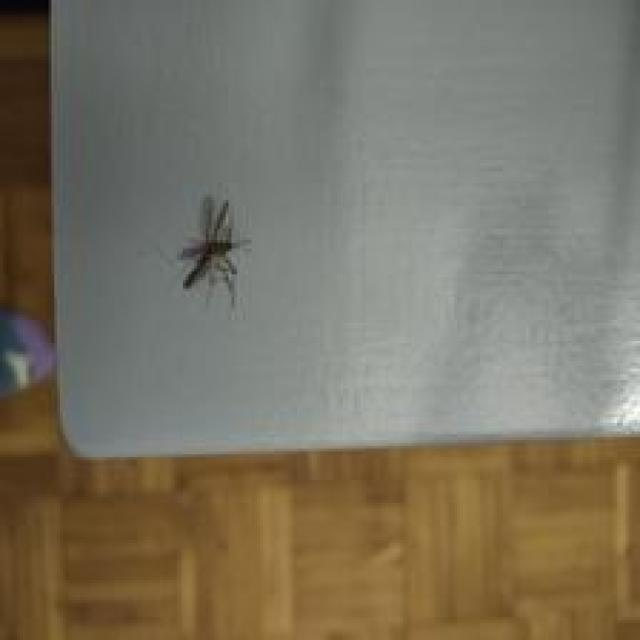Culex: (177, 194, 252, 309)
